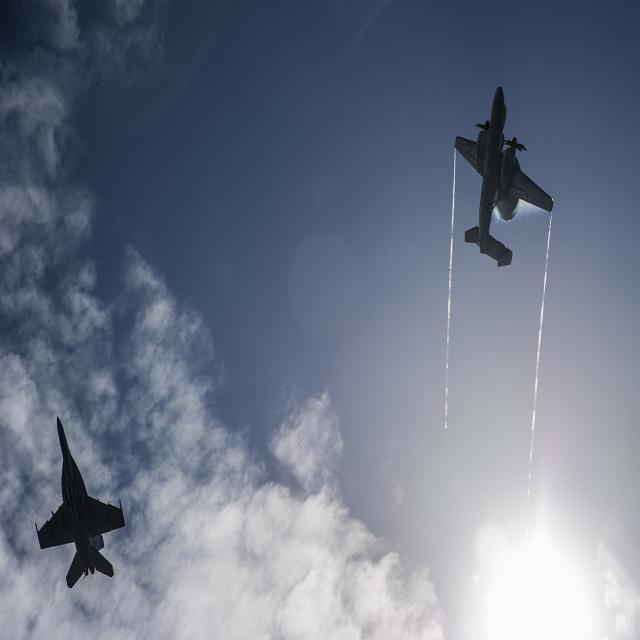MIL_Plane: (454, 86, 554, 267), (35, 415, 125, 588)
